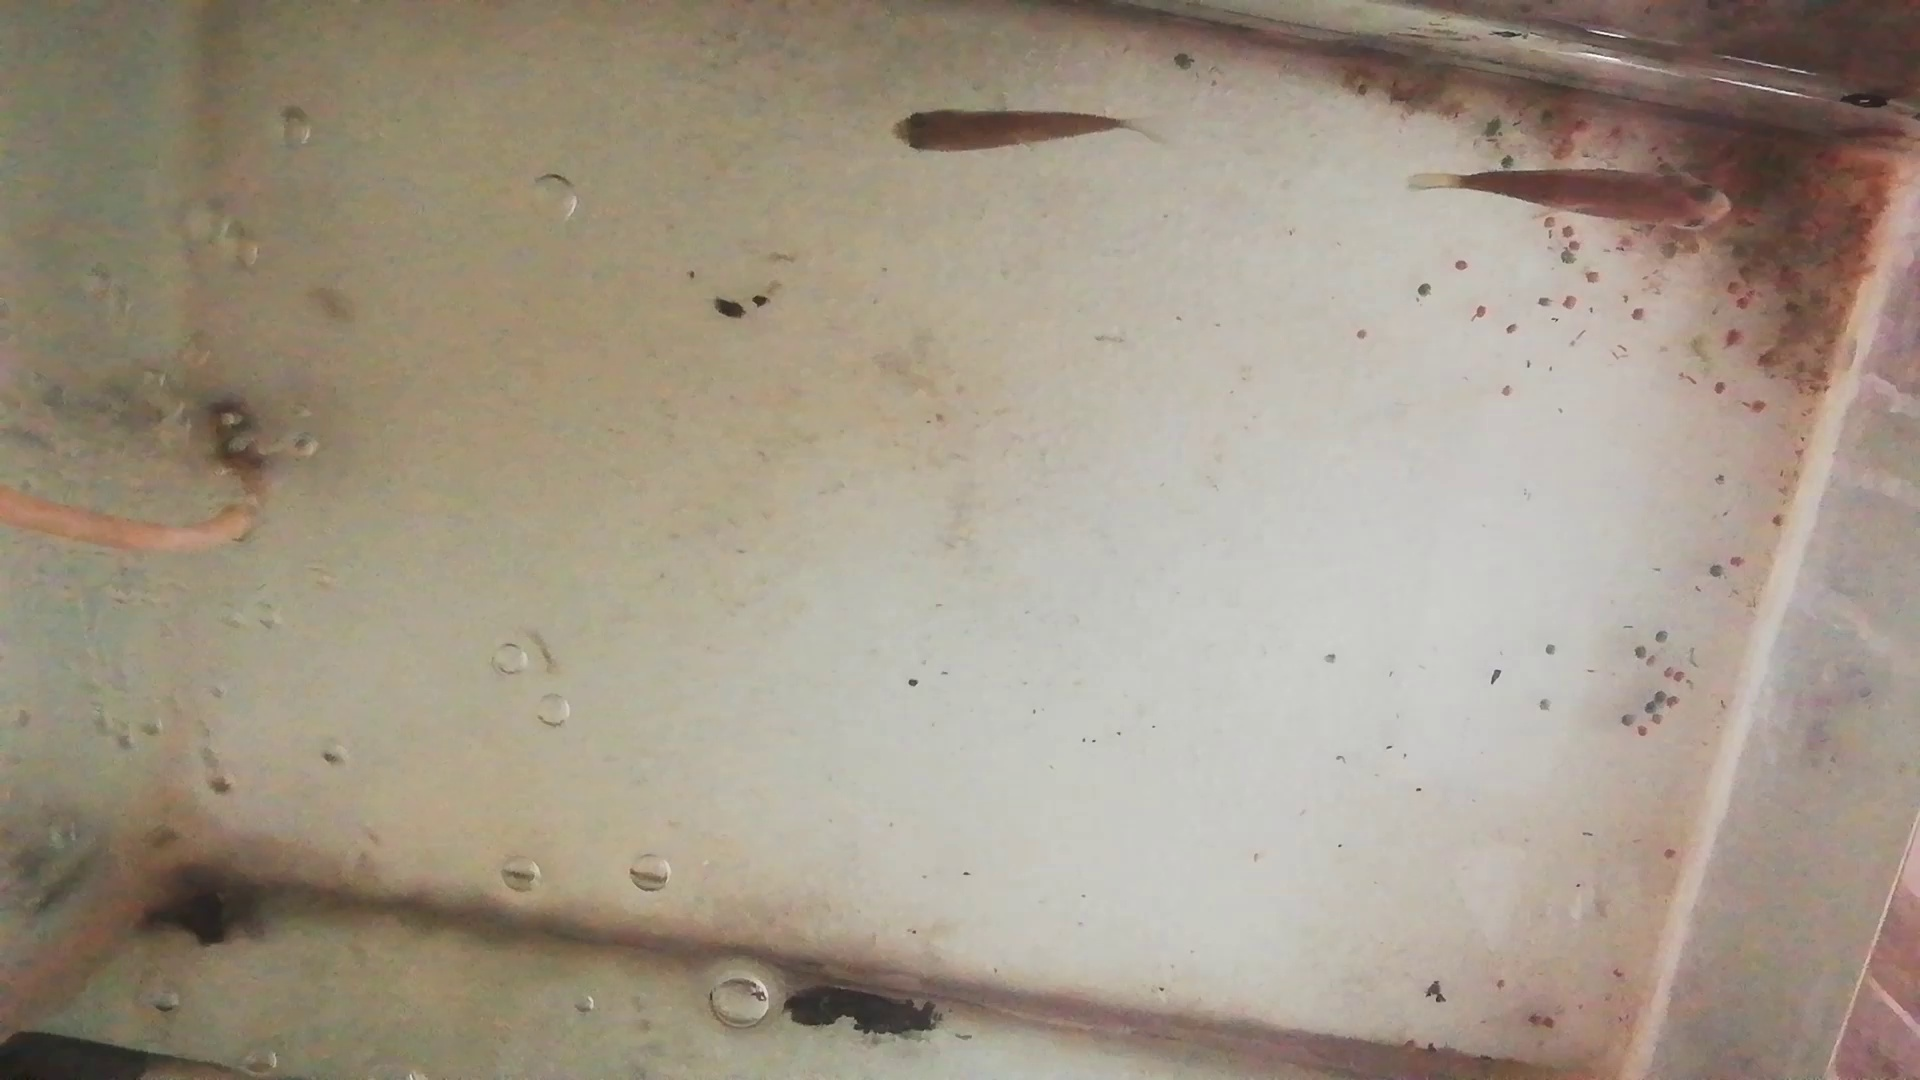fish: (1462, 166, 1734, 229), (891, 109, 1126, 153)
